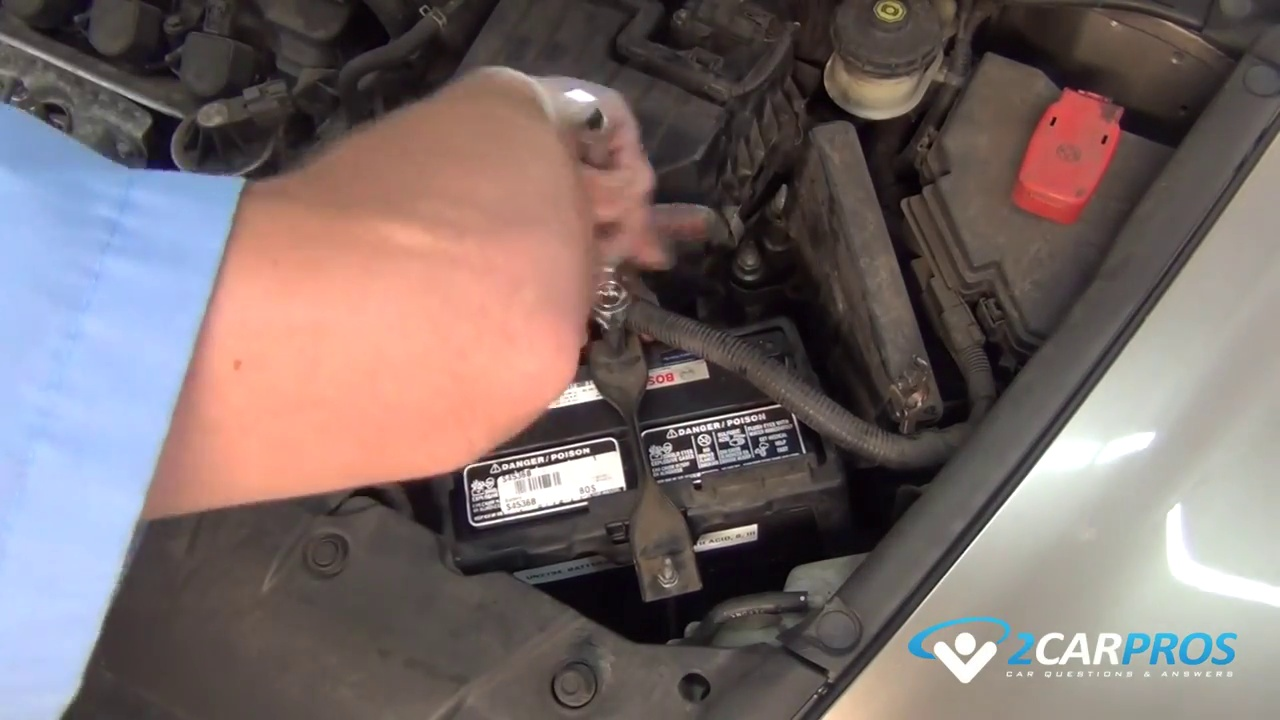battery: (472, 328, 818, 519)
